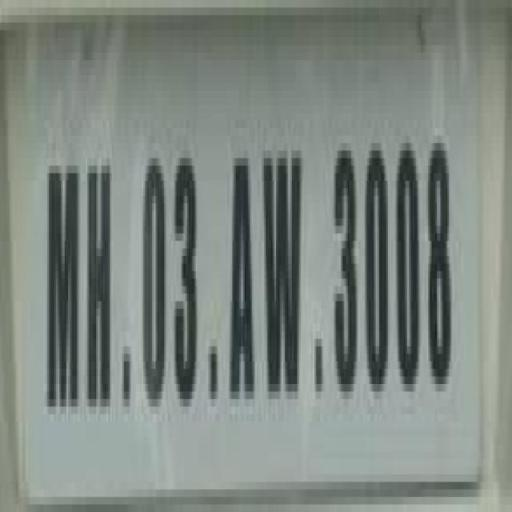number plate: (3, 7, 484, 512)
